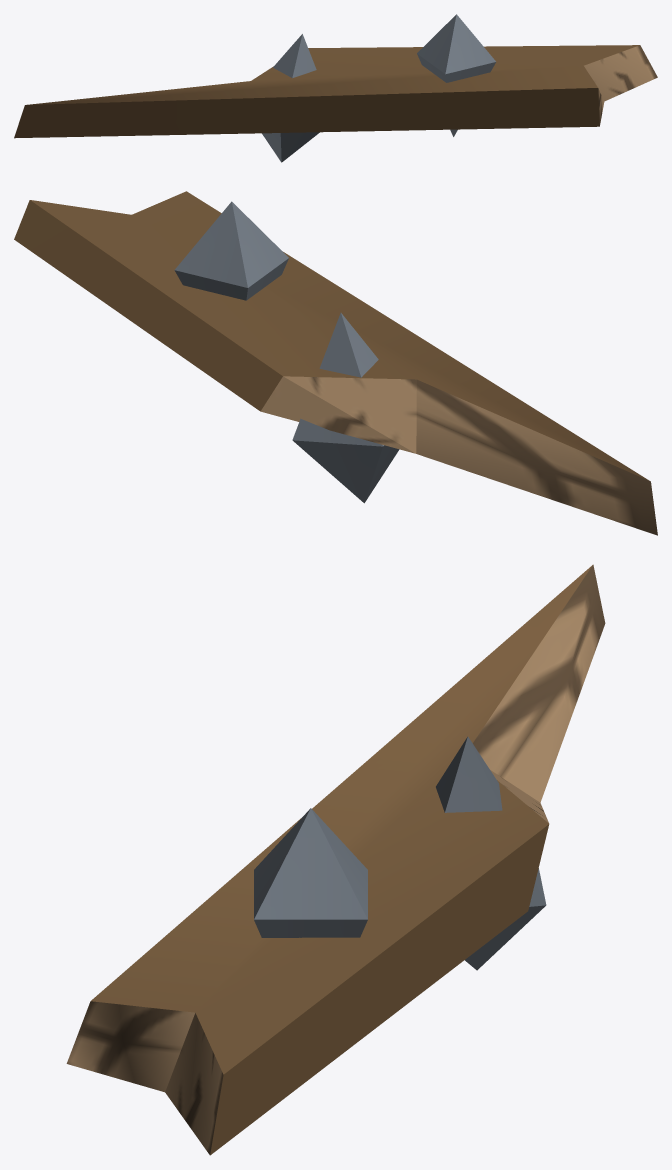
File: FX_wreck_C.FBX
The picture shows the model from 3 angles, top to bottom: view 1: azimuth 30°, elevation 25°; view 2: azimuth 150°, elevation 25°; view 3: azimuth 270°, elevation 25°; orthographic projection. The views are drawn at different scales.
Visible parts, largest first — view 1: FX_wreck_C; view 2: FX_wreck_C; view 3: FX_wreck_C.
Part boxes in pixels (x1,y1,x2,y2): FX_wreck_C: (14,14,657,162); FX_wreck_C: (14,191,657,535); FX_wreck_C: (66,564,605,1155).
Bounding box in the file's own units: 61.7 × 15.84 × 26.4.
Materials: 1 (1 with a texture image).
